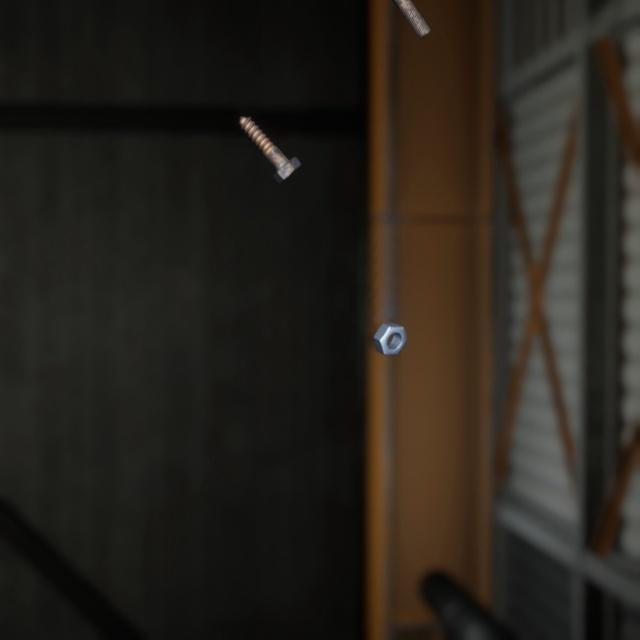bolt: (234, 98, 305, 174), (391, 0, 435, 37)
nut: (368, 301, 411, 342)
